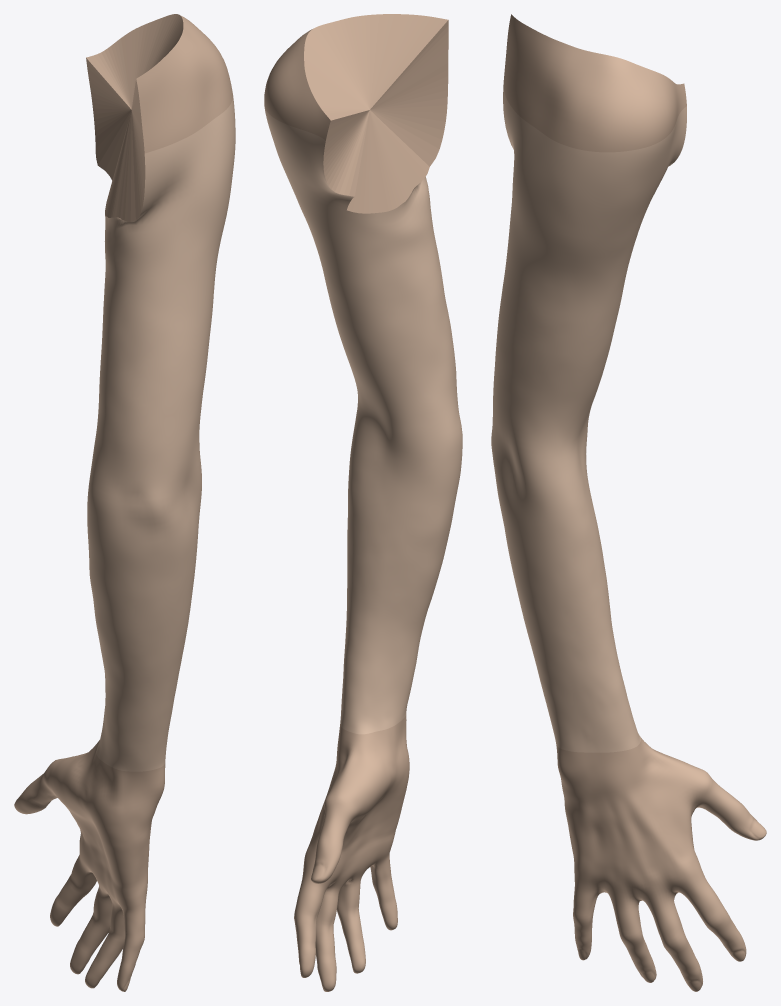
Rendered from female-arm.glb.
3 renders of one model, left to right at view 1: azimuth 30°, elevation 25°; view 2: azimuth 150°, elevation 25°; view 3: azimuth 270°, elevation 25°, orthographic. The views are drawn at different scales.
Parts seen in each view (by area): view 1: paintable, context; view 2: paintable, context; view 3: paintable, context.
Part boxes in pixels (x1,y1,x2,y2): paintable: (87,95,235,771); context: (14,14,232,991); paintable: (264,108,462,734); context: (264,14,448,991); paintable: (491,89,686,752); context: (503,14,766,991).
Bounding box in the file's own units: 143 × 819 × 212.
